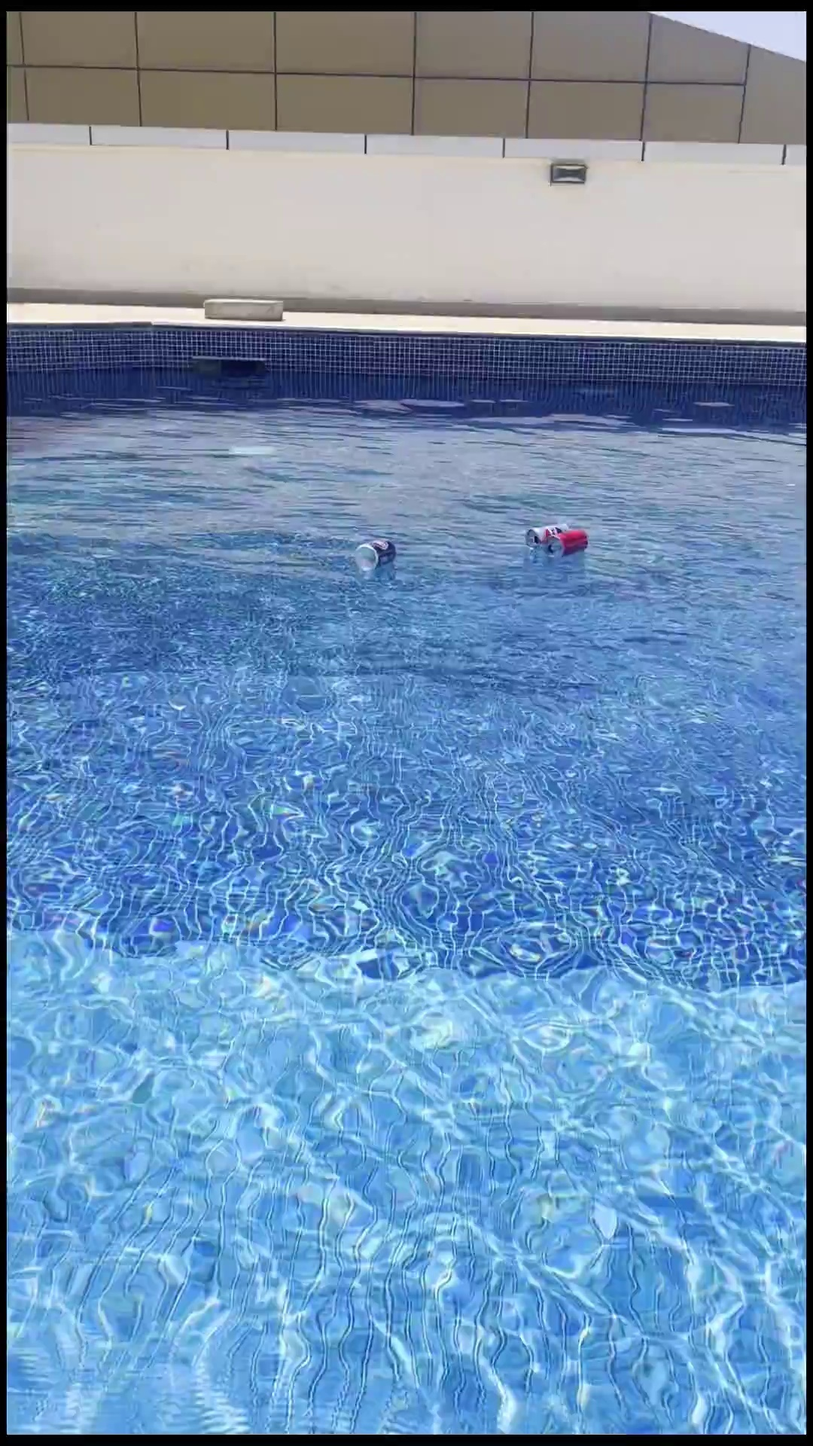debris: (350, 522, 394, 584), (543, 517, 589, 566), (522, 510, 567, 558)
